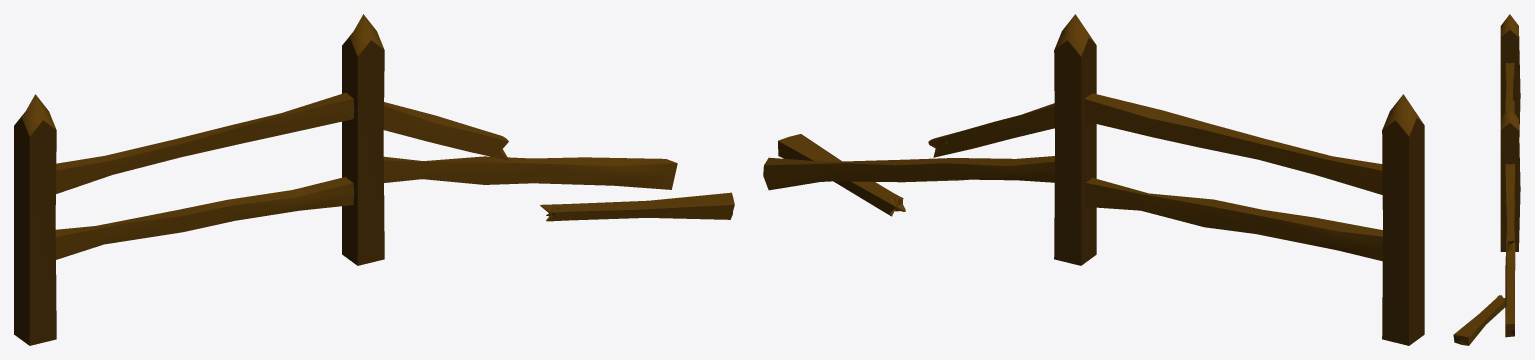
File: BrokenFence.fbx
3 views of the same model, side by side, from view 1: azimuth 30°, elevation 25°; view 2: azimuth 150°, elevation 25°; view 3: azimuth 270°, elevation 25° (orthographic). The views are drawn at different scales.
Parts seen in each view (by area): view 1: polySurface153; view 2: polySurface153; view 3: polySurface153.
Boxes of the visible parts, <box> form: polySurface153: <box>14,14,734,345</box>; polySurface153: <box>763,14,1424,345</box>; polySurface153: <box>1453,14,1520,345</box>.
Bounding box in the file's own units: 28.55 × 10.07 × 4.23.
